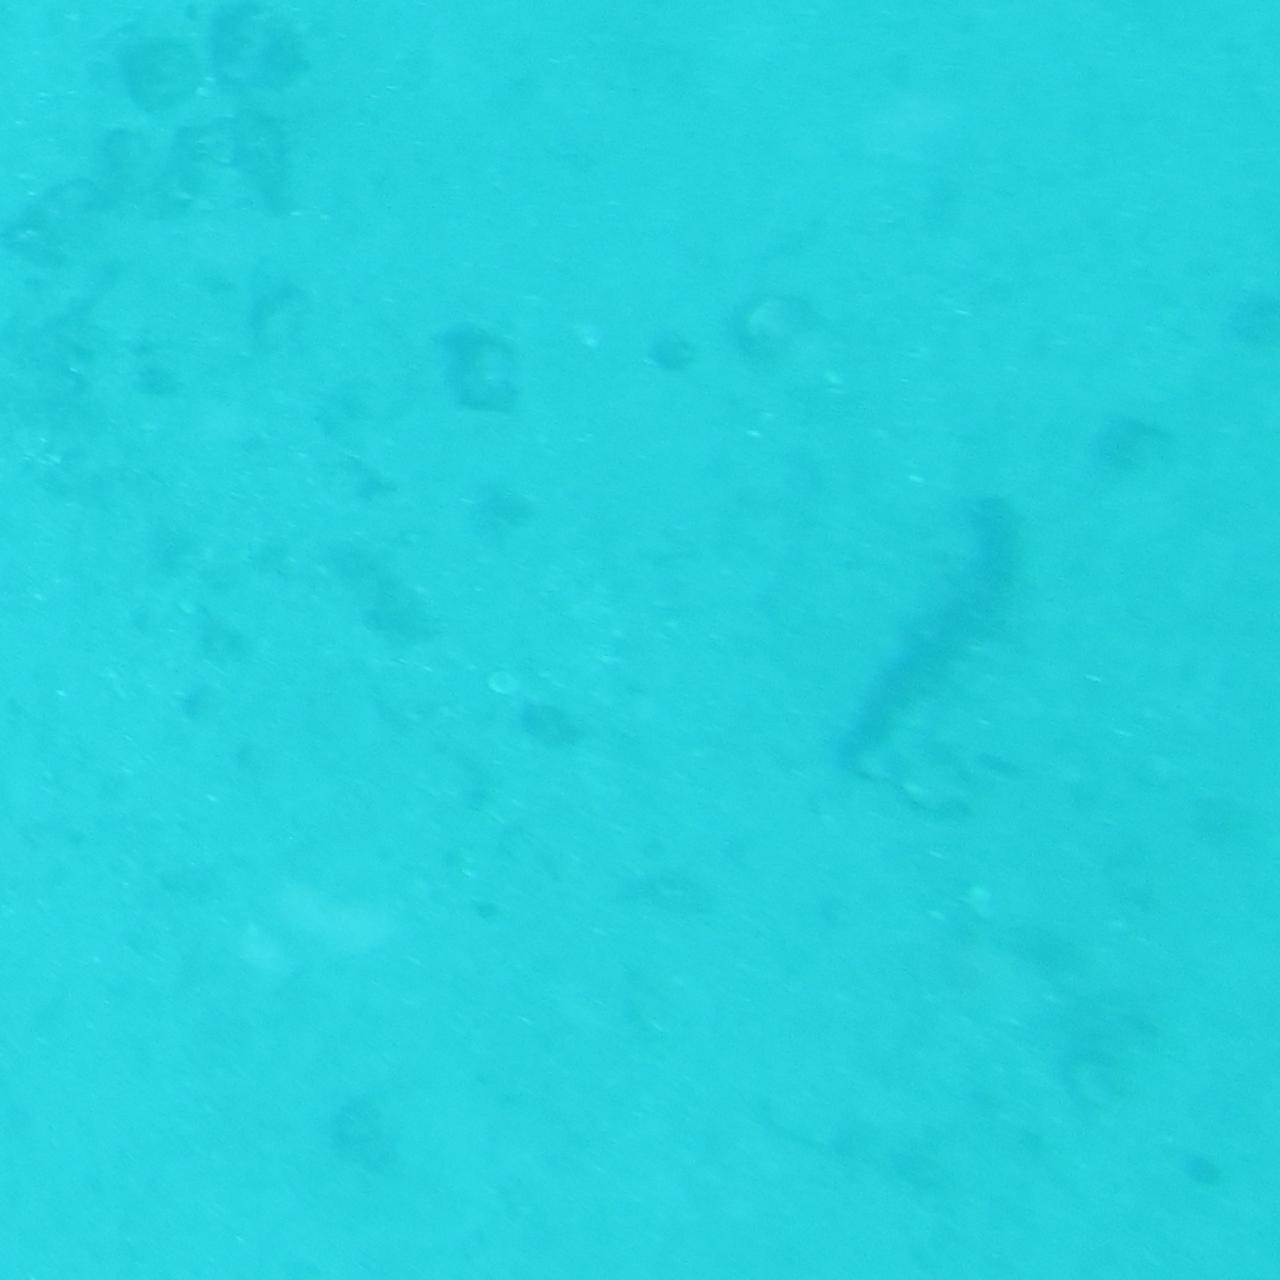Holothuria tubulosa: (834, 475, 1037, 805)
